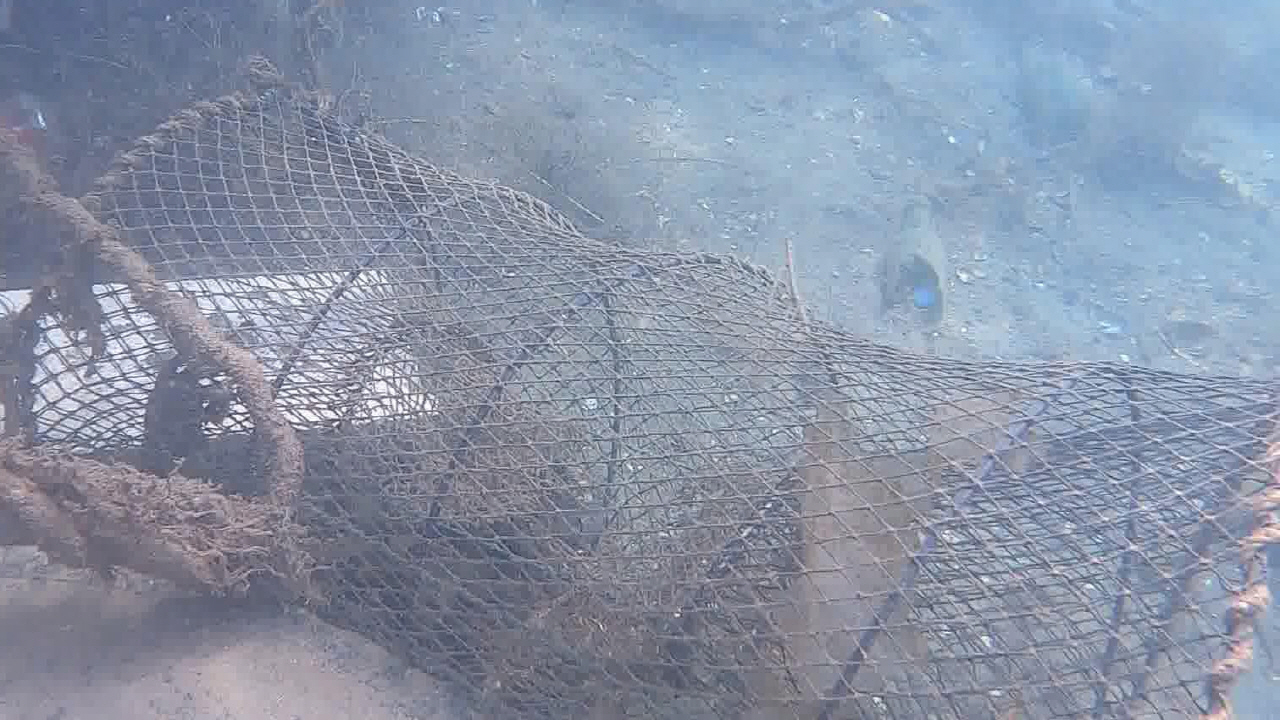spring fish trap: (0, 83, 1280, 720)
